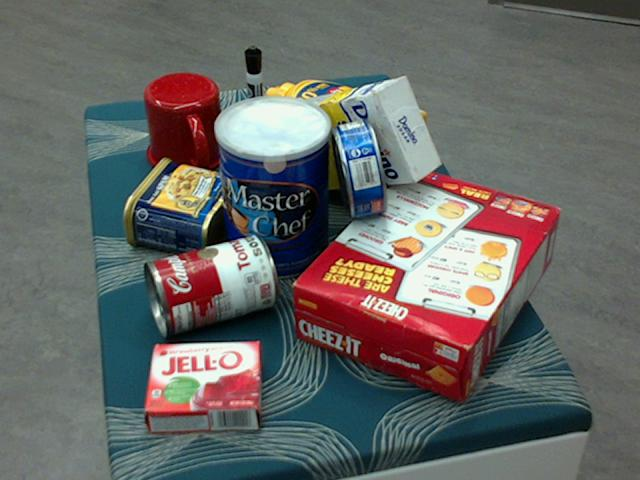cracker_box: (290, 165, 560, 400)
gelatin_box: (144, 340, 261, 431)
large_marker: (243, 45, 265, 148)
master_chef_can: (214, 97, 329, 282)
mug: (143, 73, 229, 175)
mustard_bottle: (264, 79, 425, 172)
potted_meat_can: (122, 158, 242, 256)
sugar_box: (271, 77, 440, 190)
tomato_soup_can: (142, 235, 276, 334)
tuna_fish_can: (331, 117, 387, 216)
